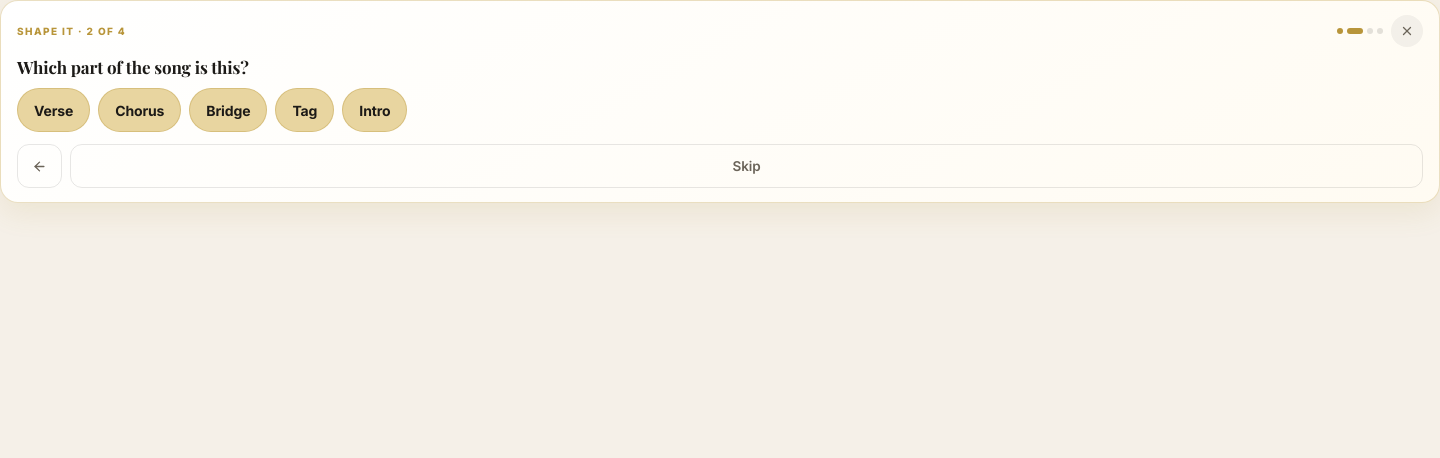
Test: GuidedShapeRail — the guided path from a fresh idea to its home › chords are tap-to-build: pick a key, tap its chords, the key rides along
Earlier steps of the test are not shown.
What coordinates should you click on to do the following:
click the button "Skip"
I would click on:
 (746, 166)
Its box is [70,144,1423,188].
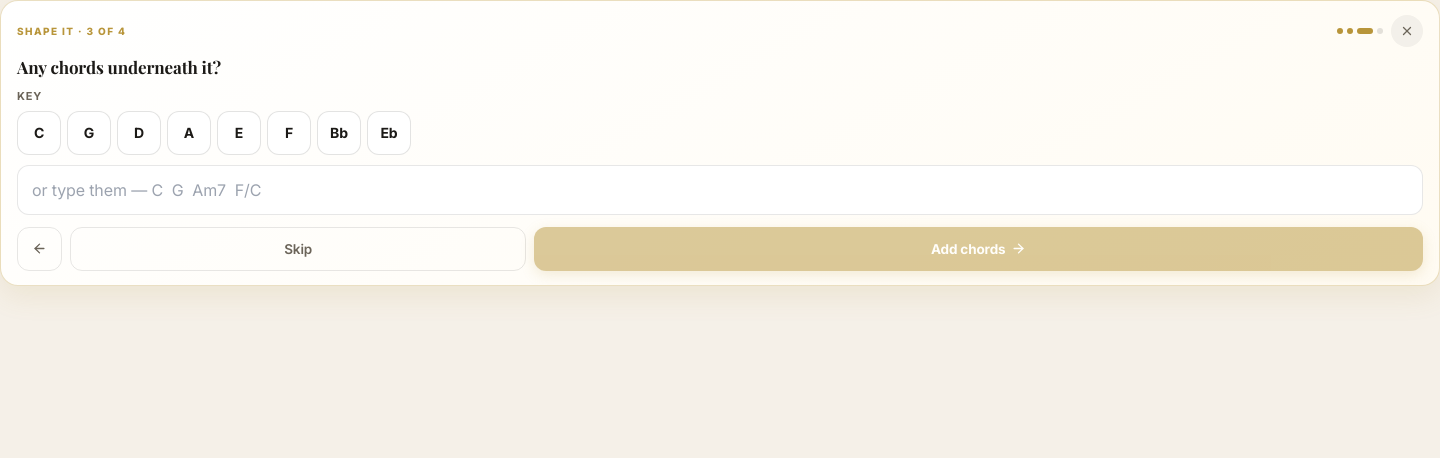
# One tap picks the key…
What coordinates should you click on to do the following:
click the button named "key of g"
I would click on:
 (89, 133)
Its box is [67,111,111,155].
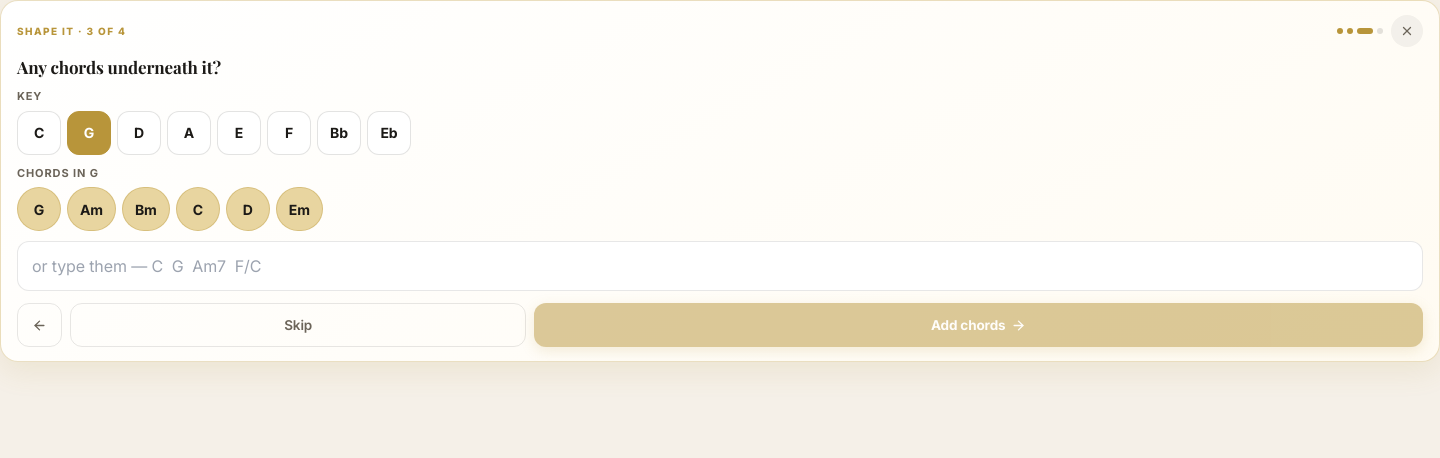
# …and the key's own chords appear as chips.
What coordinates should you click on to do the following:
click the button named "add c"
I would click on:
 (198, 209)
Its box is [176,187,220,231].
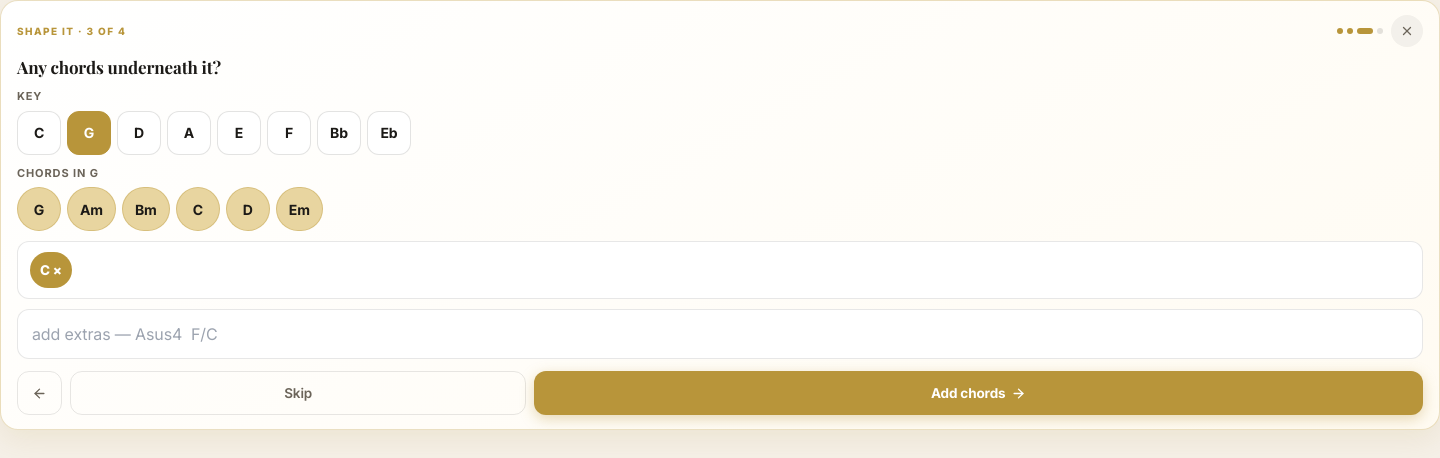
What coordinates should you click on to do the following:
click the button named "add g"
I would click on:
 (39, 209)
Its box is [17,187,61,231].
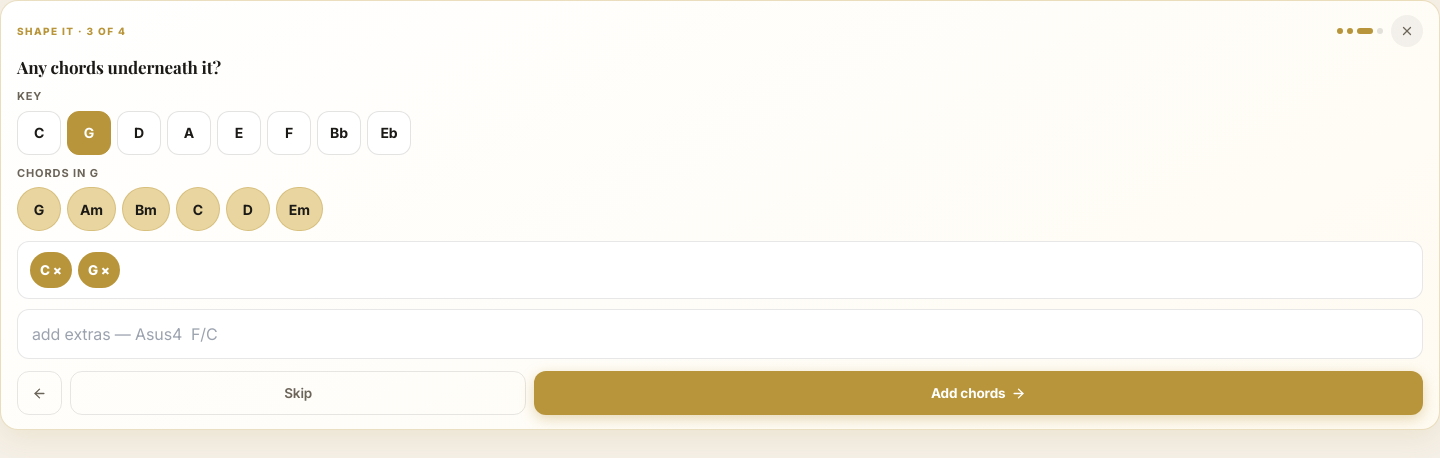
What coordinates should you click on to do the following:
click the button with aria-label "add em"
I would click on:
 (299, 209)
Its box is [276,187,323,231].
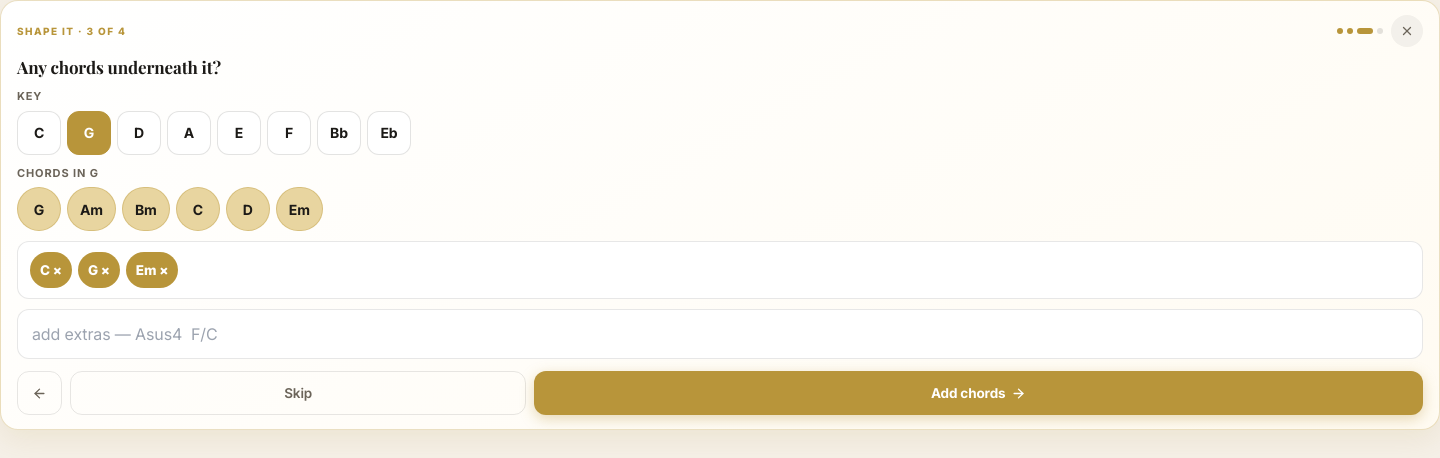
What coordinates should you click on to do the following:
click the button "Add chords"
I would click on:
 (979, 393)
Its box is [534,371,1423,415].
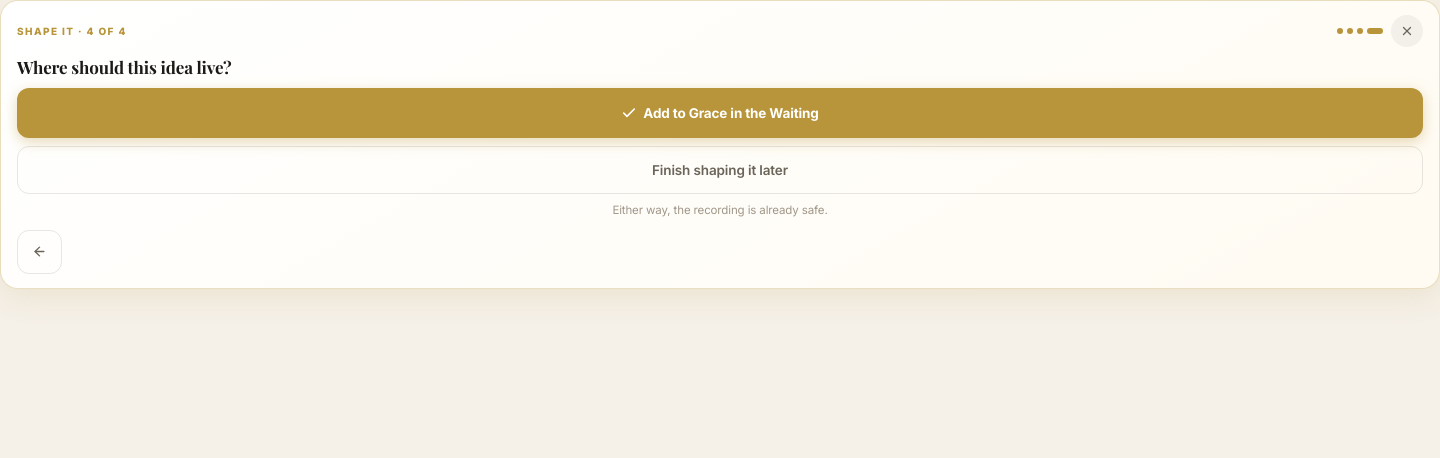
Expected: the text "Shape it · 4 of 4" is shown, [17,24,127,36]
